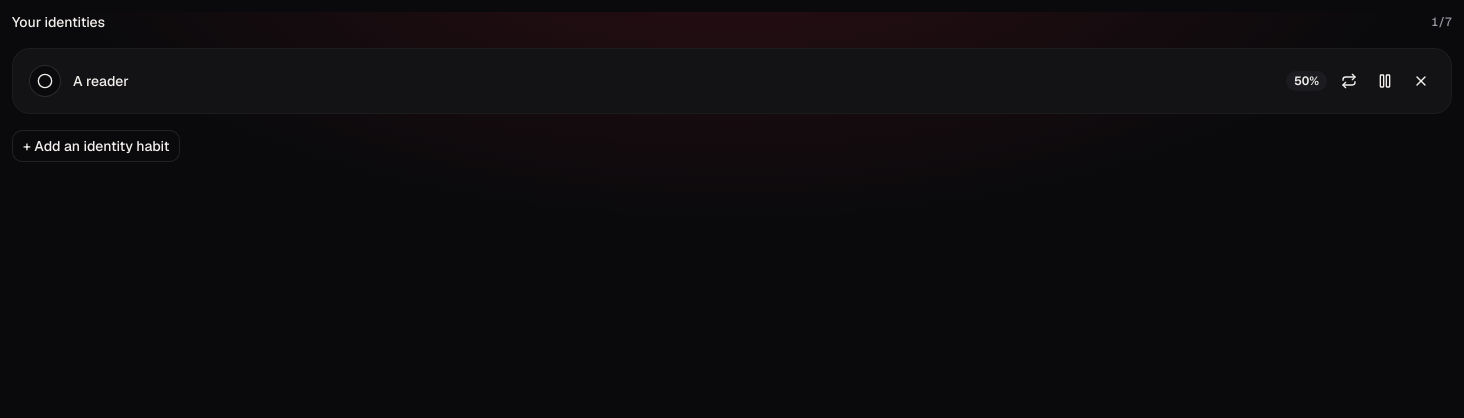
Scenario: HabitList — cadence (HABIT-FREQ) › a server refusal leaves the old cadence in place and shows the message
Click the button named "Change how often". click: (1349, 81)
box: x1=1335 y1=67 x2=1363 y2=95
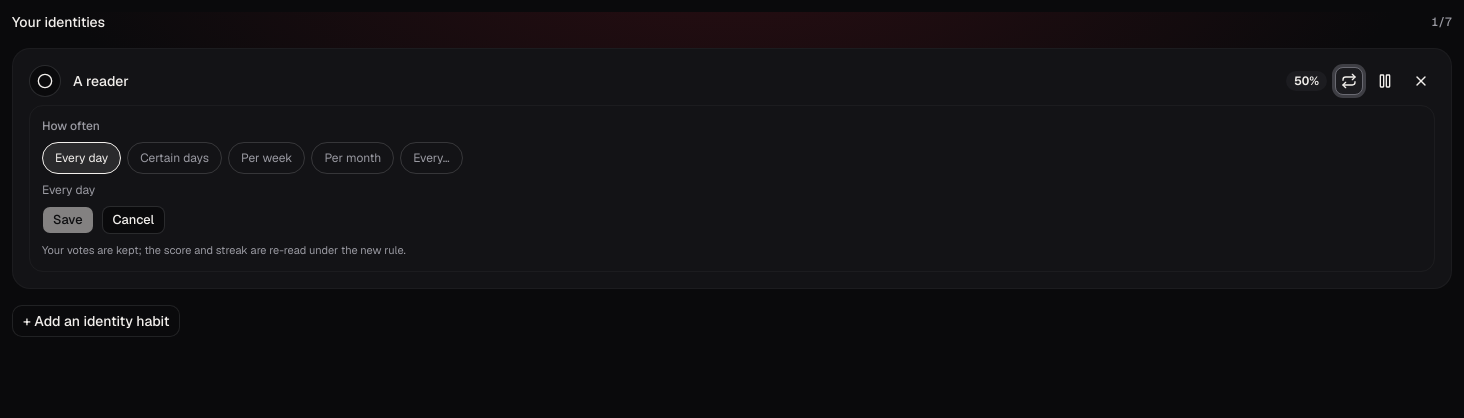
Click the radio button labelled "Per week". click: (267, 158)
box: x1=228 y1=142 x2=305 y2=174
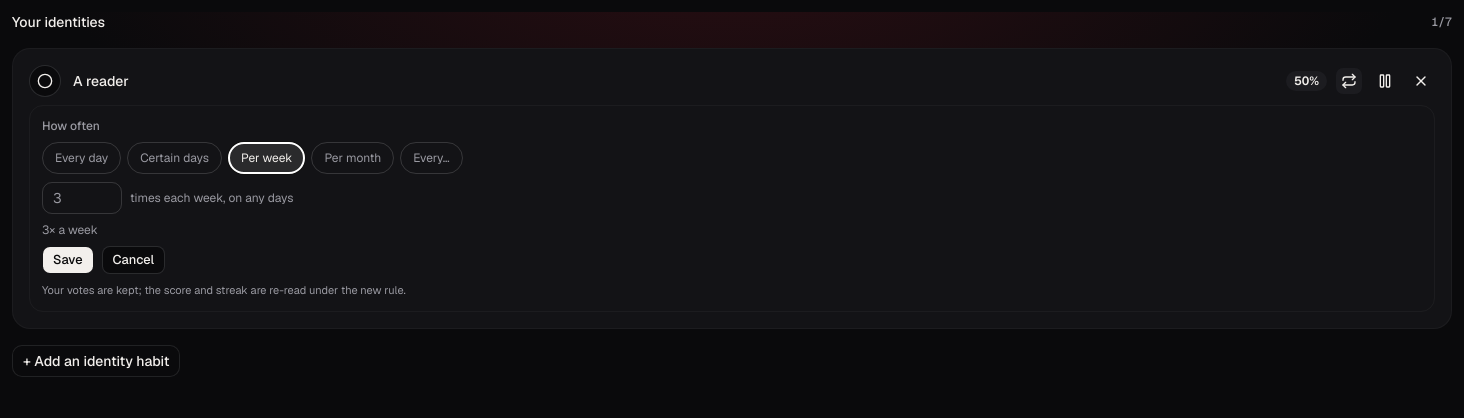
Click the button "Save". click: (68, 260)
box: x1=42 y1=246 x2=94 y2=274
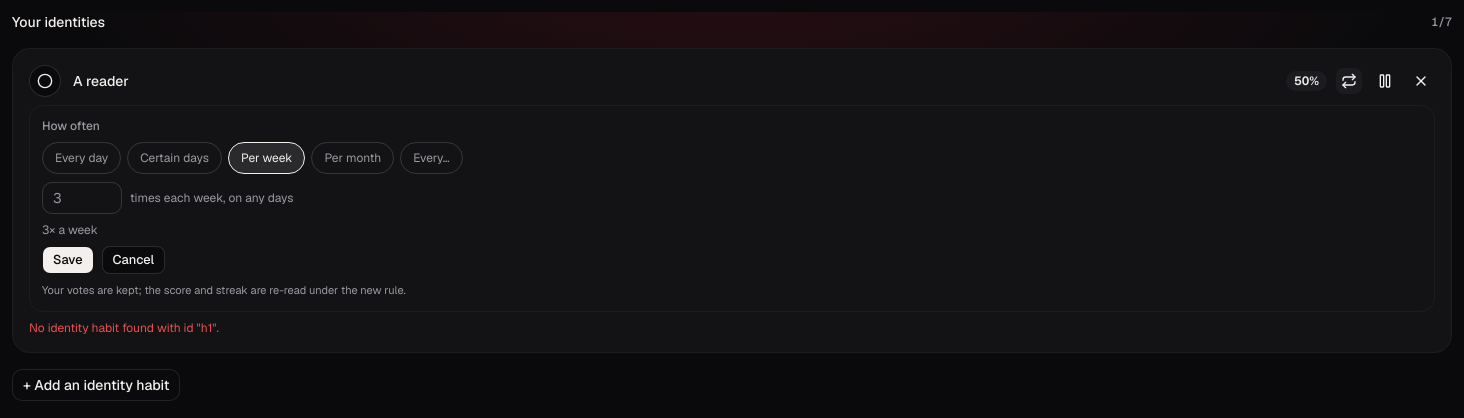
Expected: the text "No identity habit found with id \"h1\"." is shown, x1=29 y1=320 x2=219 y2=336
